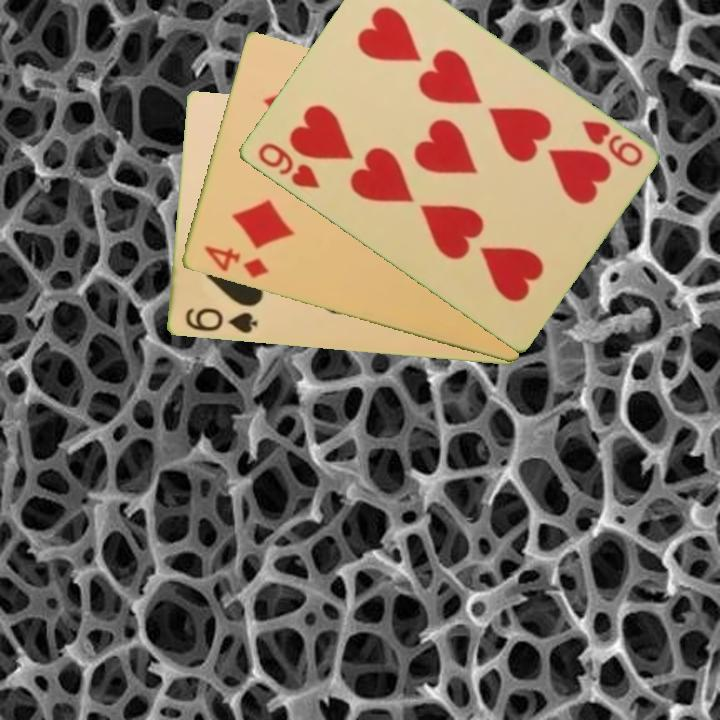4d: (200, 242, 271, 281)
6s: (181, 305, 260, 337)
9h: (577, 116, 646, 170), (253, 139, 322, 192)
